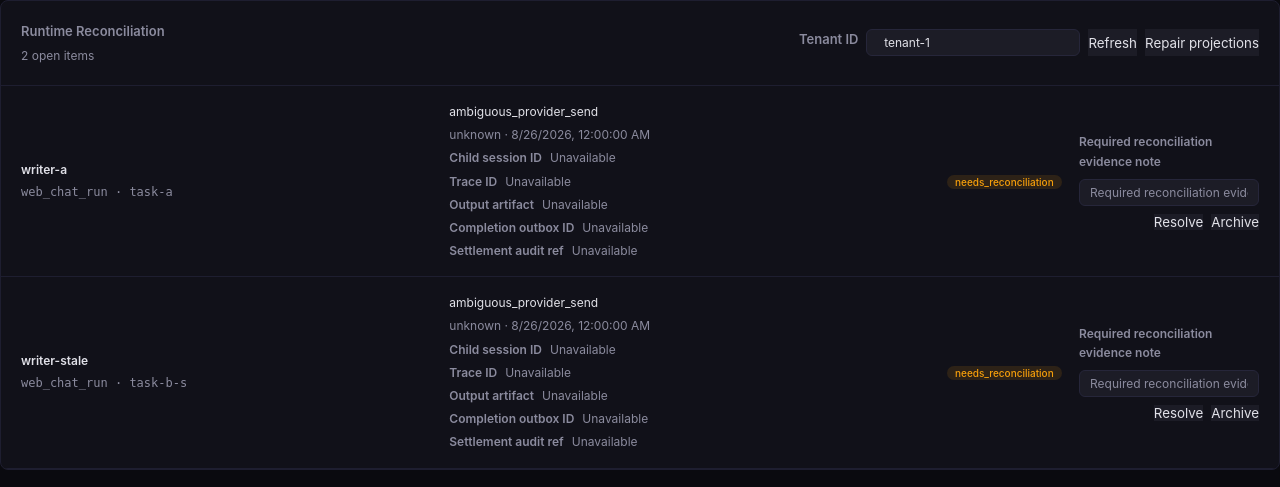
it: AdminRuntimeReconciliationSection — projection repair (mounted) › repairs projections through the authenticated adapter, shows the truthful receipt, and reloads the queue in place
Expected: the text "2 open items" is shown, [21, 48, 94, 63]
What coordinates should you click on to do the following:
click the button "Repair projections"
I would click on:
 (1202, 43)
Its box is [1145, 30, 1259, 56].
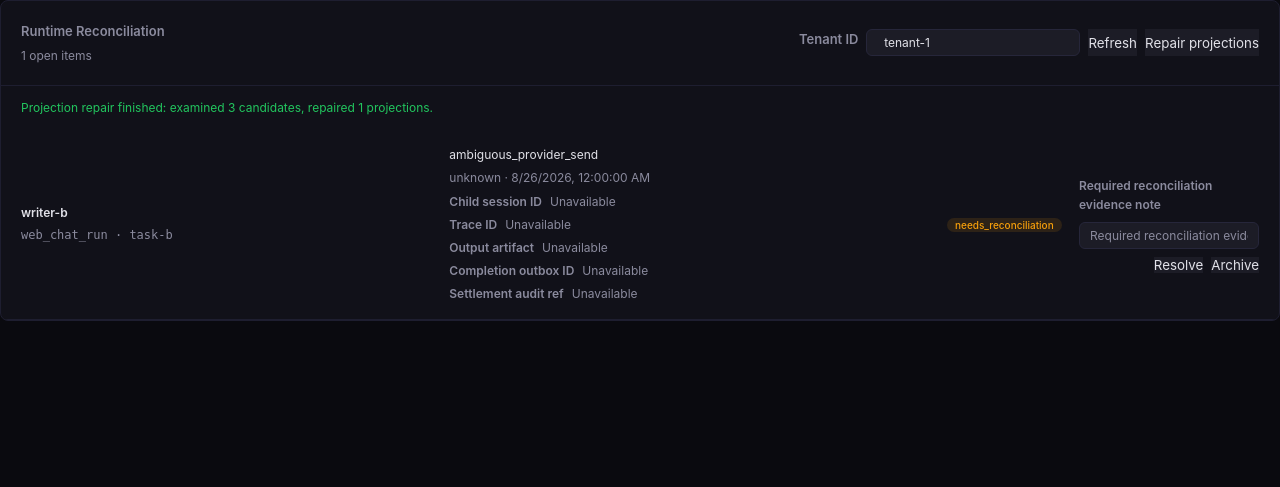
Expected: the text "Projection repair finished: examined 3 candidates, repaired 1 projections." is shown, [21, 100, 433, 115]
Expected: the text "1 open items" is shown, [21, 48, 92, 63]
Expected: the text "writer-b" is shown, [21, 205, 68, 220]
